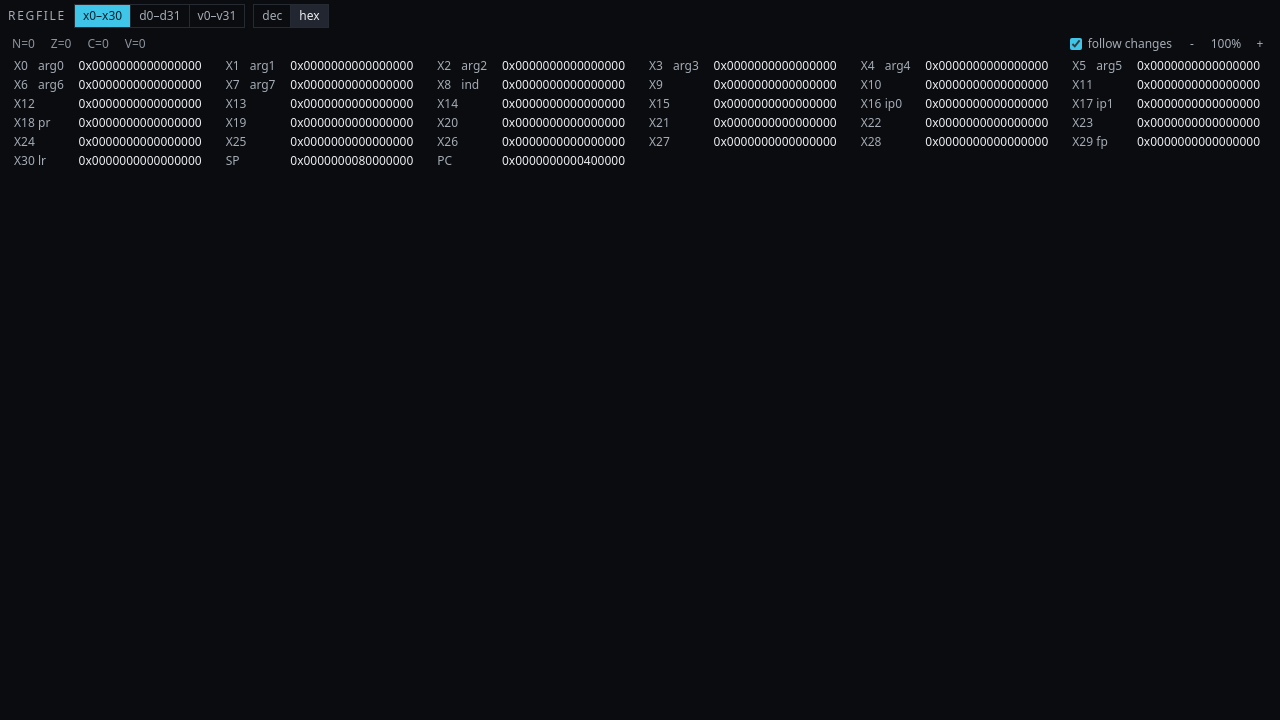
Test: RegisterPanel v-register view › splits the same bits by the chosen lane width and remembers it
The image size is (1280, 720).
Click the button "v0–v31".
click(216, 16)  # box left=188, top=5, right=244, bottom=27
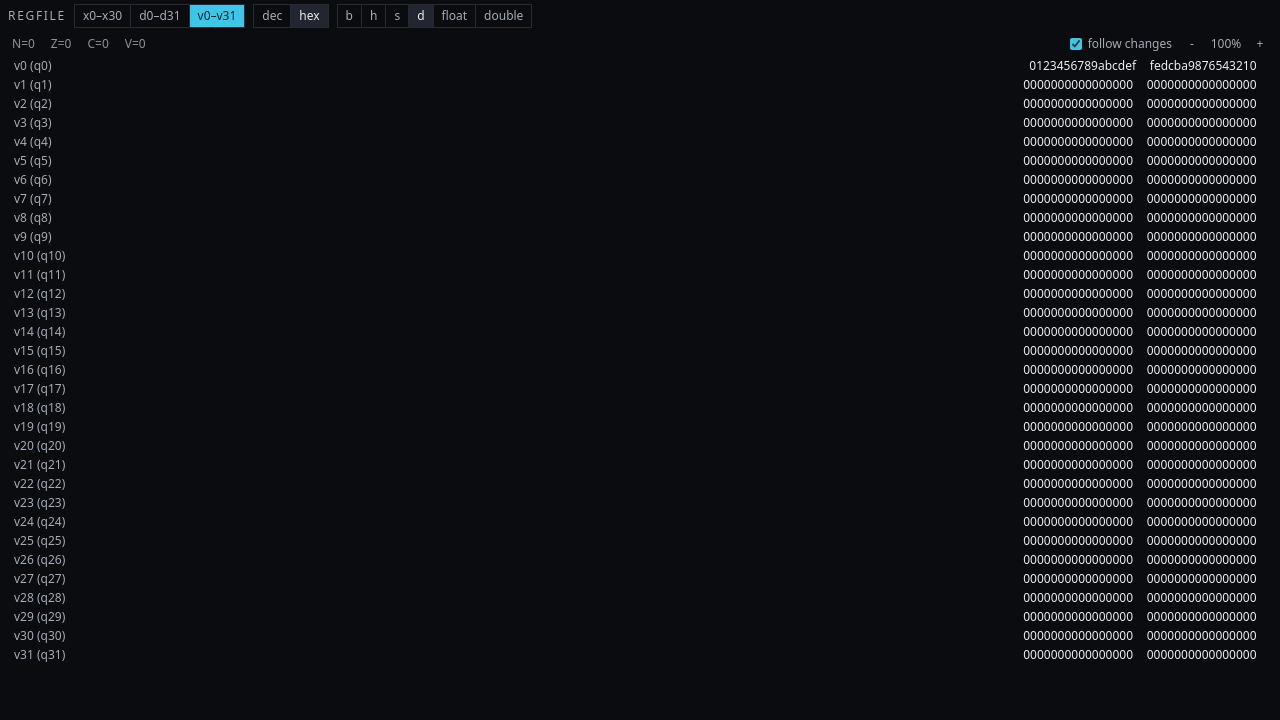
Now the text "fedcba9876543210" is shown, box left=1150, top=58, right=1257, bottom=73
Click the button named "s, 32-bit lanes".
click(397, 16)  # box left=385, top=5, right=408, bottom=27
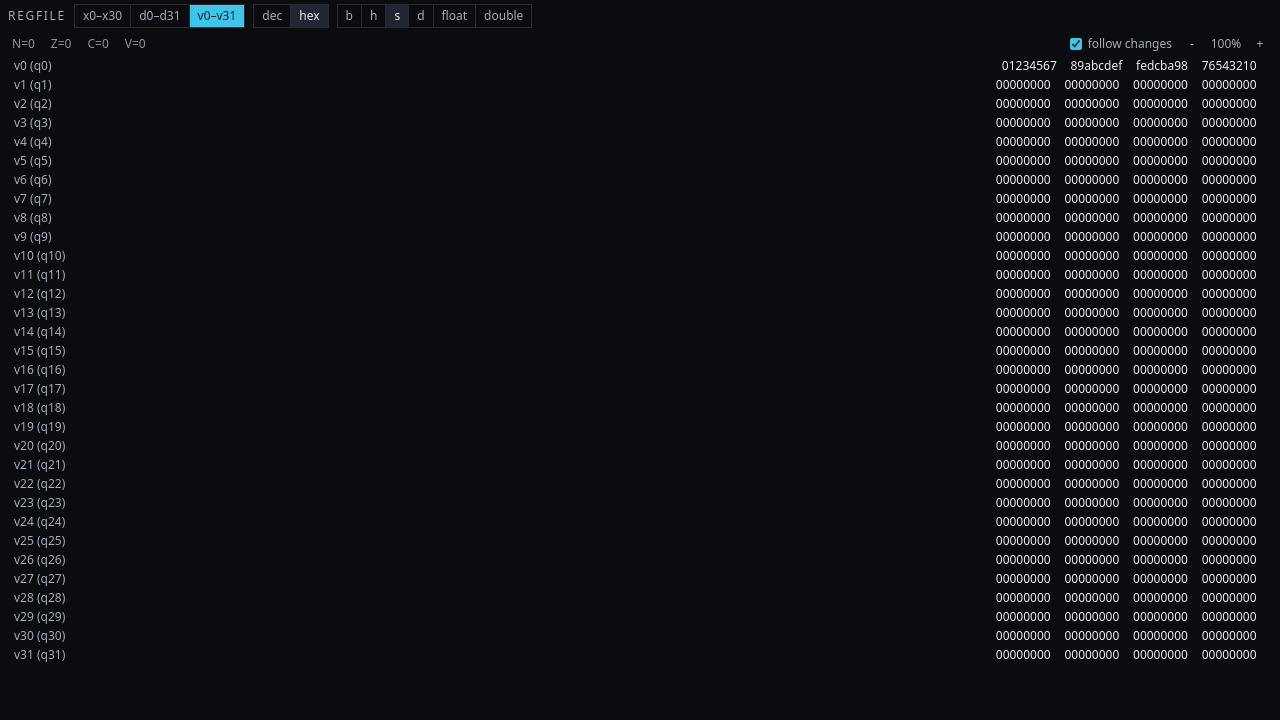
Now the text "76543210" is shown, box left=1202, top=58, right=1257, bottom=73
Now the text "fedcba9876543210" is gone
